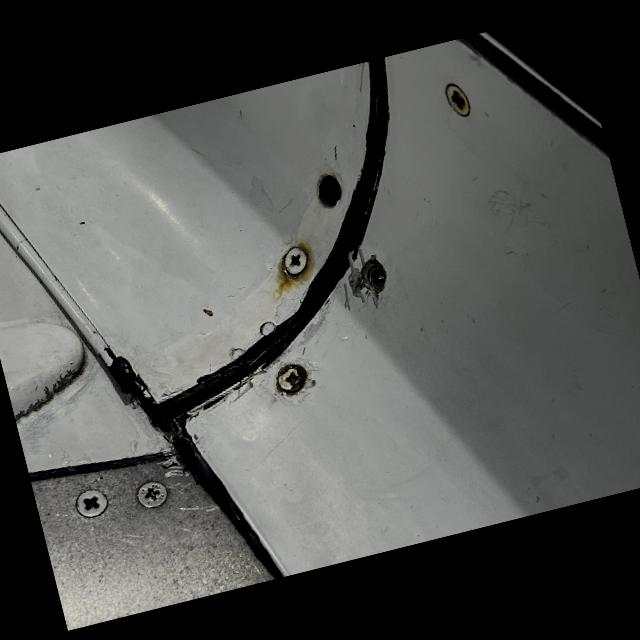Missing Fastener: (356, 246, 398, 300)
